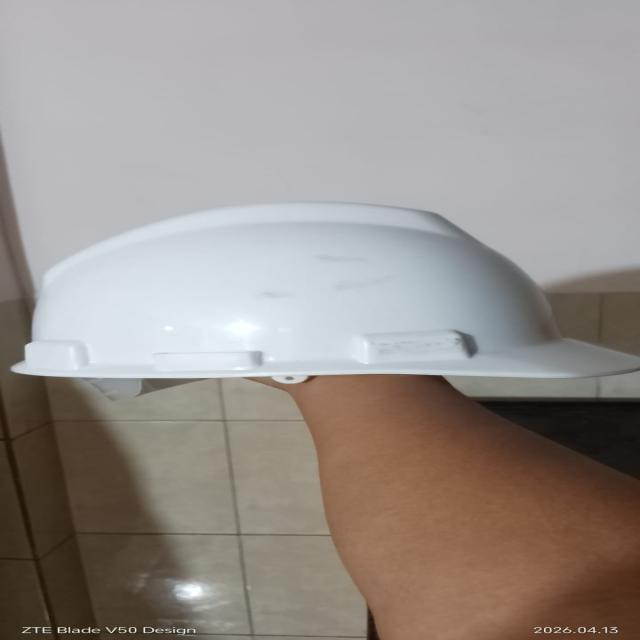casco: (9, 198, 640, 406)
